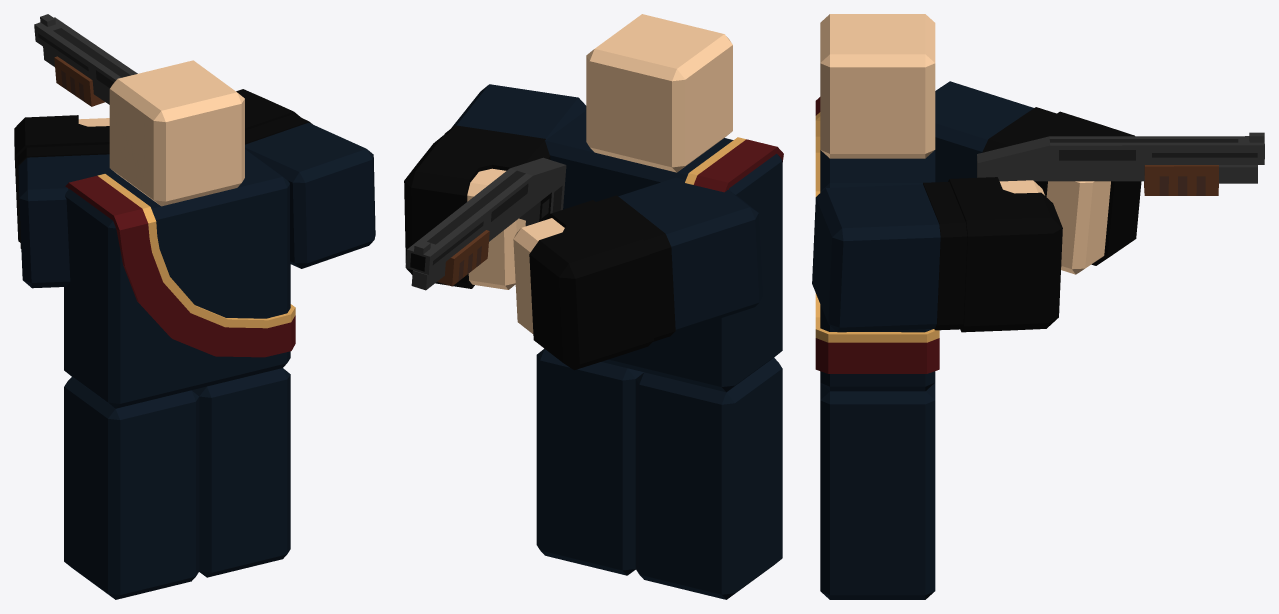
The picture shows the model from 3 angles, left to right: view 1: azimuth 30°, elevation 25°; view 2: azimuth 150°, elevation 25°; view 3: azimuth 270°, elevation 25°; orthographic projection. The views are drawn at different scales.
Parts seen in each view (by area): view 1: Terrorist, Terrorist.003, Terrorist.001, Terrorist.002; view 2: Terrorist.003, Terrorist, Terrorist.002, Terrorist.001; view 3: Terrorist.001, Terrorist, Terrorist.003, Terrorist.002.
Boxes of the visible parts, x1,y1,x2,y2 form: Terrorist: [64, 60, 295, 408]; Terrorist.003: [64, 368, 290, 599]; Terrorist.001: [34, 14, 375, 268]; Terrorist.002: [14, 115, 117, 288]; Terrorist.003: [536, 348, 782, 599]; Terrorist: [545, 14, 783, 392]; Terrorist.002: [513, 177, 762, 370]; Terrorist.001: [404, 84, 586, 290]; Terrorist.001: [812, 132, 1264, 332]; Terrorist: [815, 14, 939, 391]; Terrorist.003: [820, 383, 935, 599]; Terrorist.002: [935, 81, 1141, 274].
Size of the model in its own units: 3.33 by 5 by 3.94.
